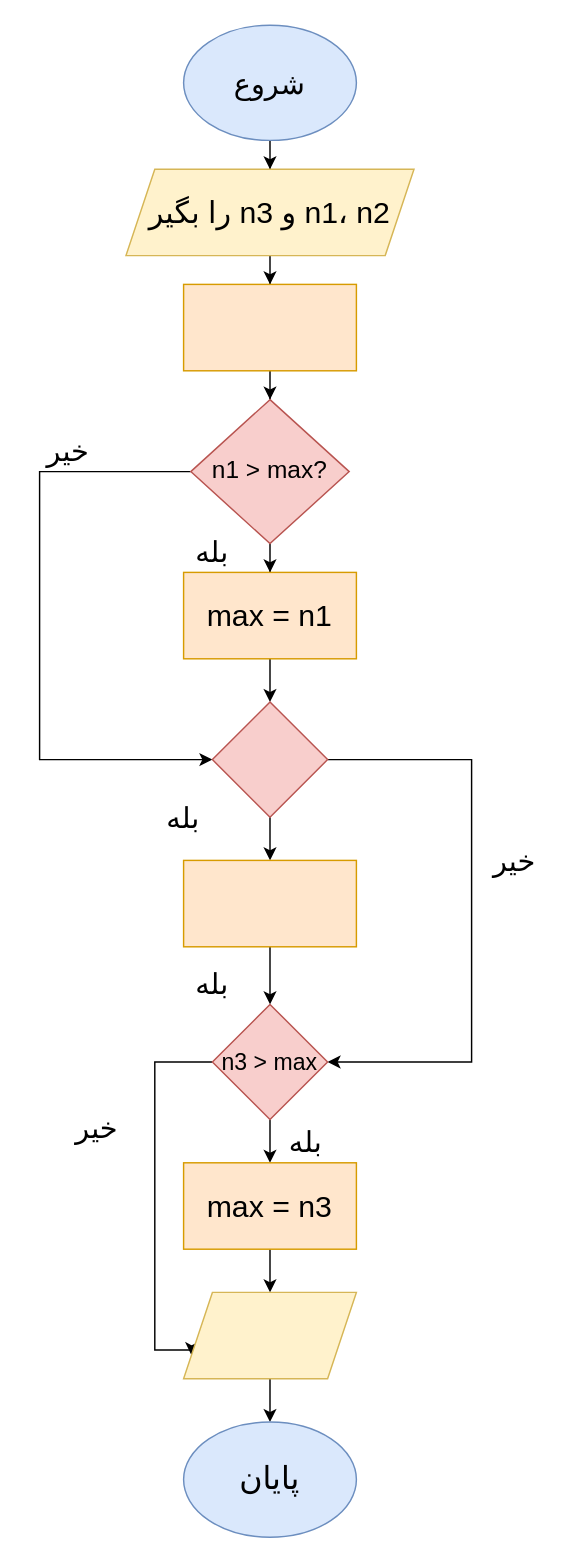
The diagram is 582 pixels wide and 1562 high, and some of its shapes have lost their labels. The box of each missing label's shape, as (x1, y1, x2, y2) in pixels:
max = 0: (182, 283, 356, 371)
max = n2: (182, 859, 356, 947)
max را نمایش بده: (182, 1291, 356, 1379)
n2 > max: (211, 701, 328, 817)
